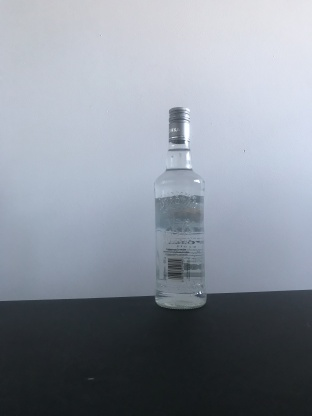nakretka: (167, 104, 192, 144)
